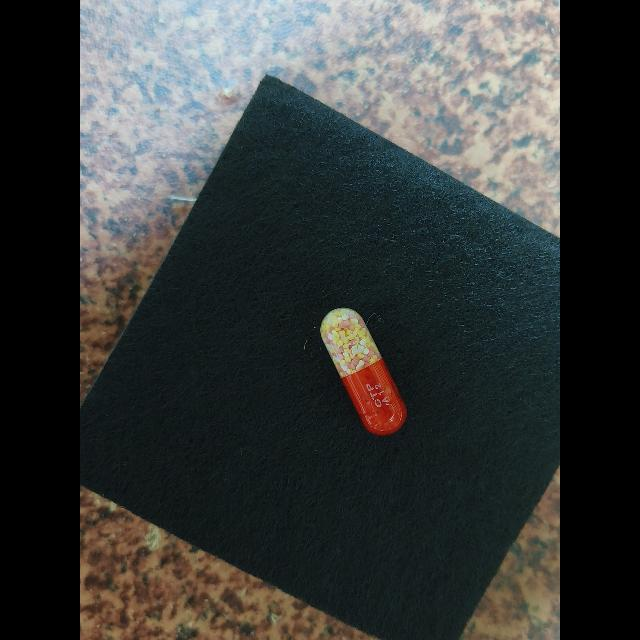Intact Capsule: (320, 307, 407, 436)
